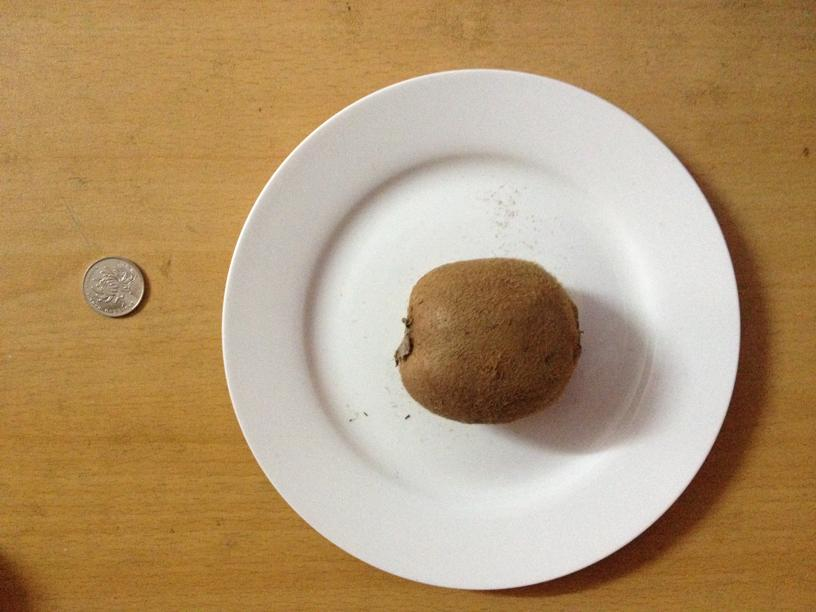coin: (83, 256, 146, 316)
qiwi: (396, 257, 585, 425)
